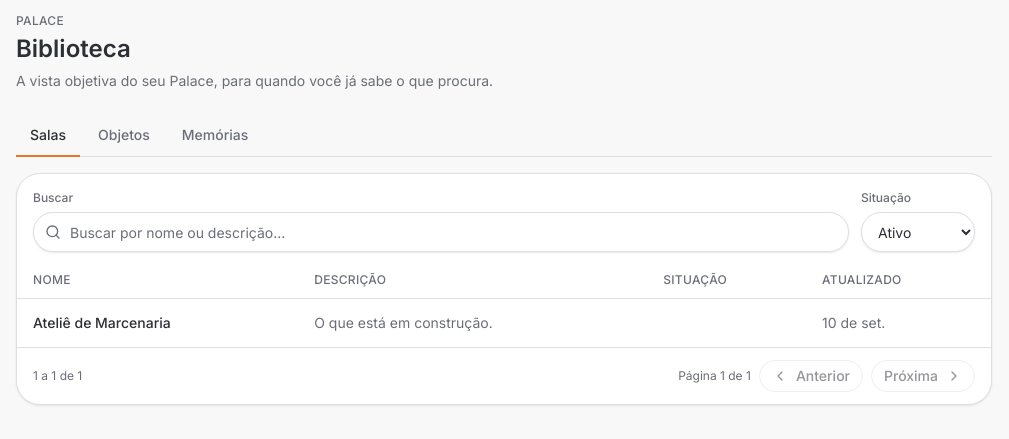
Scenario: keeps the search box usable while the refresh is in flight
Expected: the link "Ateliê de Marcenaria" is shown, 33,314 -> 171,331
Type "a" into the search field labelled "Buscar" at x=441, y=232, box 33,212 -> 849,252
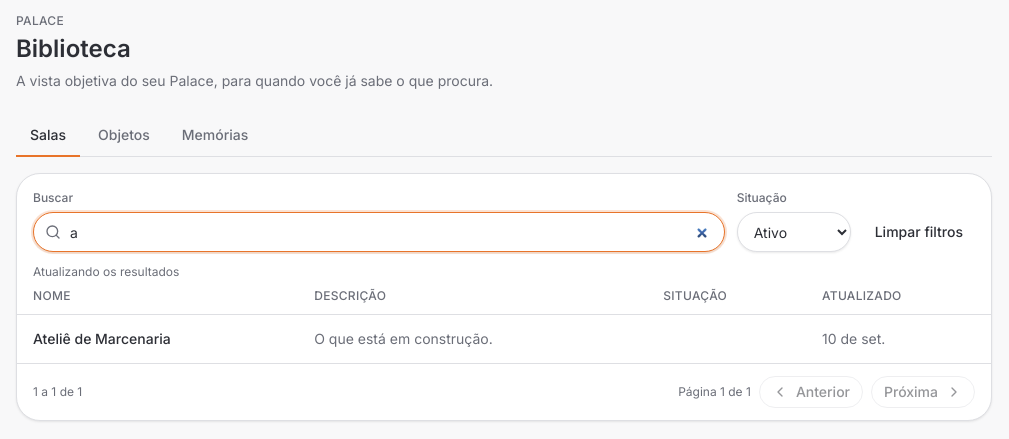
Expected: the text "Atualizando os resultados" is shown, 33,264 -> 179,279
Type "b" into the search field labelled "Buscar" at x=379, y=232, box 33,212 -> 725,252
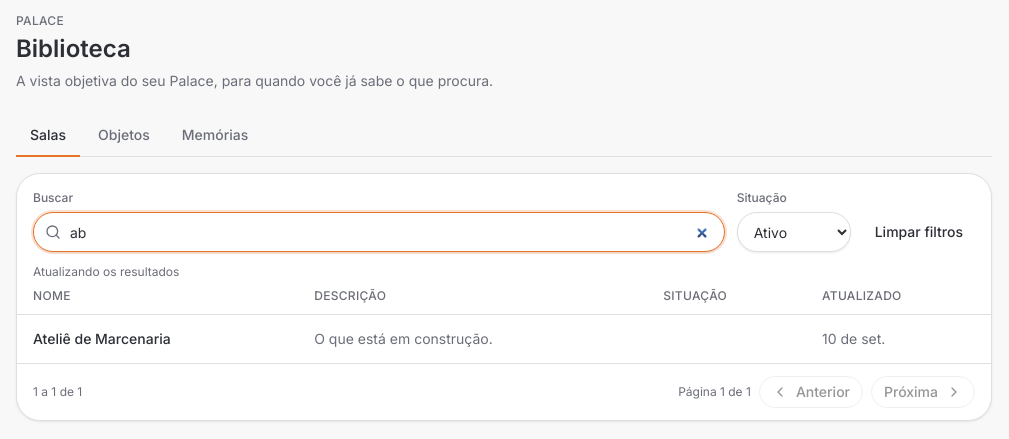
Expected: the search field labelled "Buscar" holds "ab", 33,212 -> 725,252
